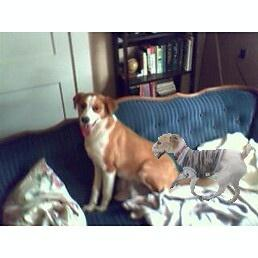tampered: (153, 134, 251, 204)
